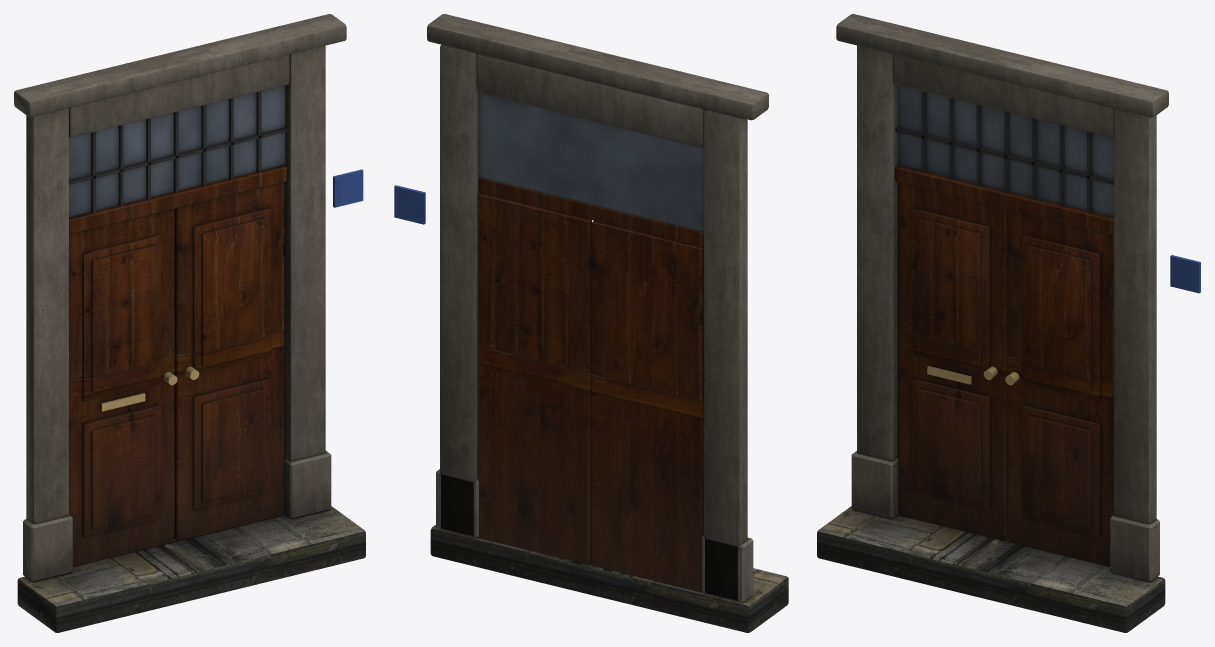
Rendered from door_town_wood.glb.
The picture shows the model from 3 angles, left to right: view 1: azimuth 30°, elevation 25°; view 2: azimuth 150°, elevation 25°; view 3: azimuth 330°, elevation 25°; orthographic projection. The views are drawn at different scales.
Visible parts, largest first — view 1: door_town_wood; view 2: door_town_wood; view 3: door_town_wood.
Boxes of the visible parts, box(x1,y1,x2,y2) form: door_town_wood: box(14, 14, 365, 632); door_town_wood: box(394, 14, 788, 632); door_town_wood: box(817, 14, 1200, 632).
Size of the model in its own units: 1.93 by 2.73 by 0.38.
1 material, 1 textured.
